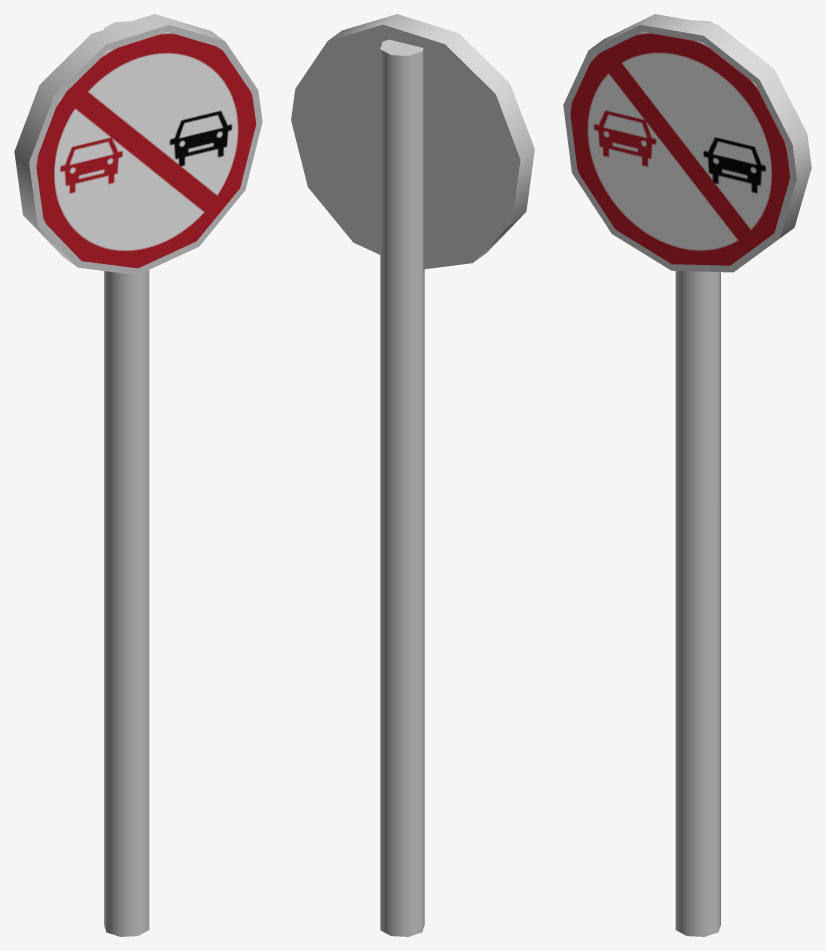
File: NOVERTAKE.fbx
3 views of the same model, side by side, from view 1: azimuth 30°, elevation 25°; view 2: azimuth 150°, elevation 25°; view 3: azimuth 330°, elevation 25° (orthographic).
Parts seen in each view (by area): view 1: pasted__pasted__pasted__pasted__pasted__pasted__pasted__laye; view 2: pasted__pasted__pasted__pasted__pasted__pasted__pasted__laye; view 3: pasted__pasted__pasted__pasted__pasted__pasted__pasted__laye.
Boxes of the visible parts, bbox=[...] form: pasted__pasted__pasted__pasted__pasted__pasted__pasted__laye: bbox=[14, 14, 262, 936]; pasted__pasted__pasted__pasted__pasted__pasted__pasted__laye: bbox=[291, 14, 534, 936]; pasted__pasted__pasted__pasted__pasted__pasted__pasted__laye: bbox=[563, 14, 811, 936].
Size of the model in its own units: 1.02 by 3.81 by 0.2327.
Materials: 2 (1 with a texture image).
